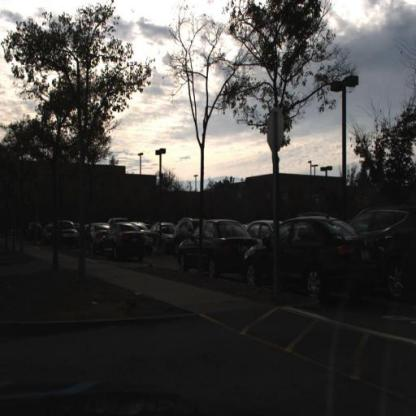car: (242, 212, 386, 310), (356, 197, 414, 305), (174, 217, 253, 277), (99, 220, 146, 264), (242, 210, 276, 246), (172, 216, 197, 240), (152, 215, 174, 242)
